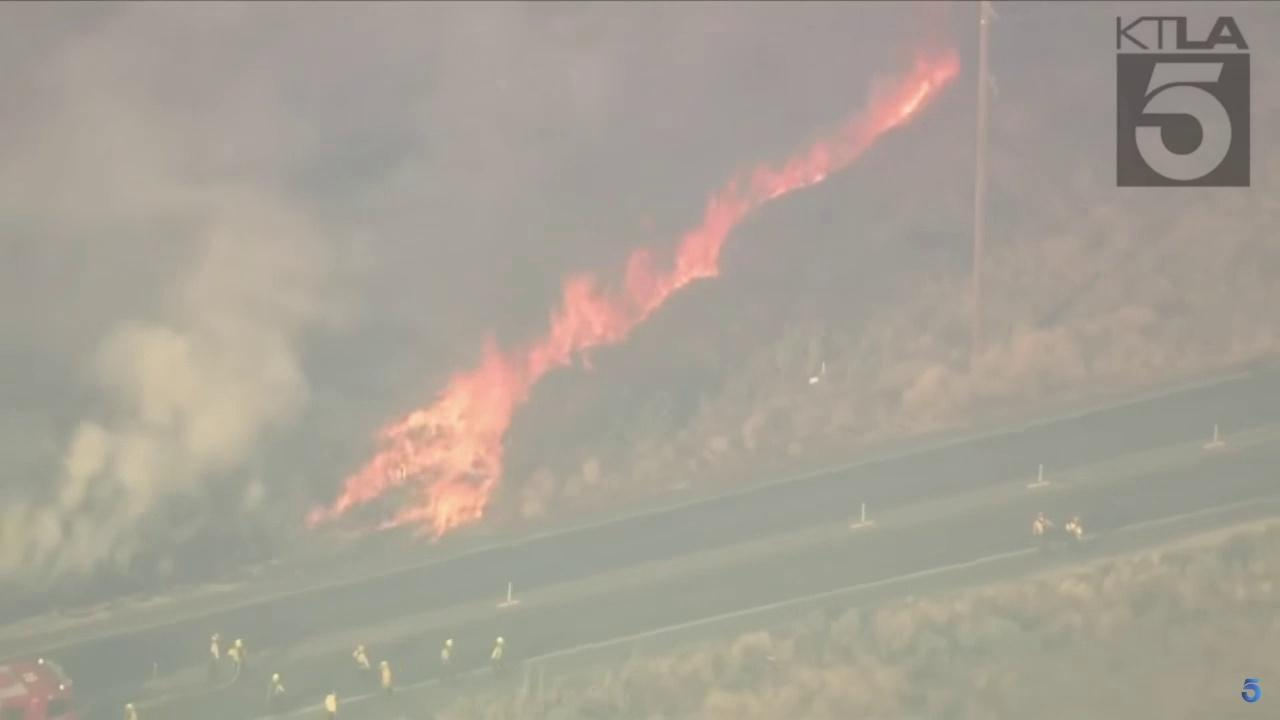fire: (302, 41, 963, 546)
smoke: (0, 0, 978, 609)
